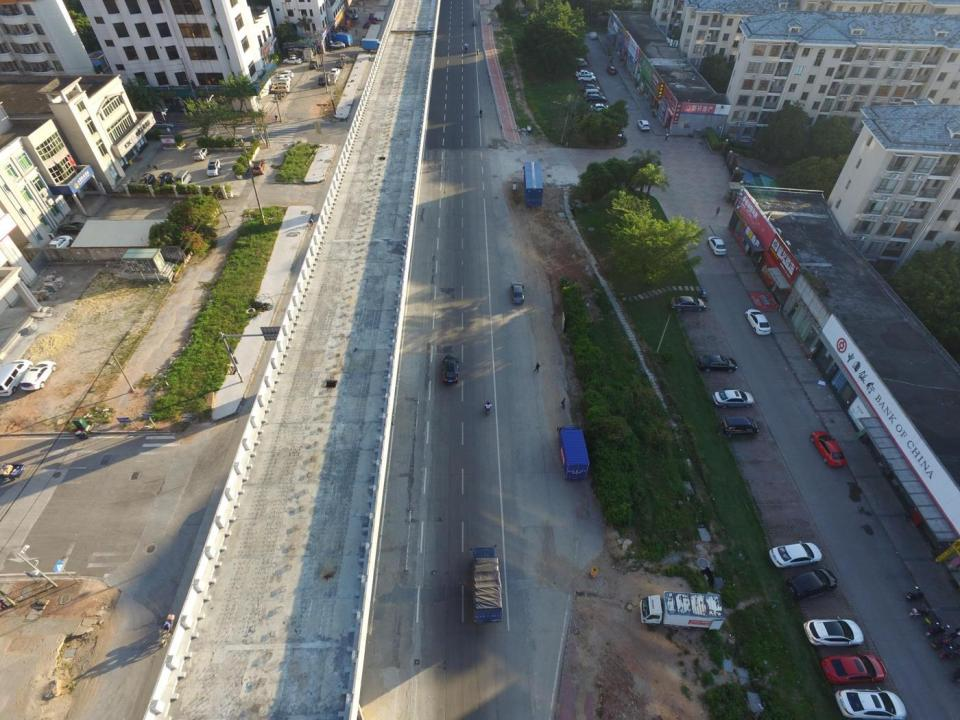car: (834, 686, 908, 720), (822, 650, 886, 685), (804, 614, 864, 648), (785, 566, 838, 602), (768, 540, 823, 568), (809, 430, 848, 468), (0, 359, 34, 397), (19, 360, 56, 390), (719, 413, 759, 438), (711, 387, 754, 410), (697, 352, 738, 374), (744, 308, 771, 336), (670, 295, 706, 313), (46, 234, 73, 258), (441, 354, 460, 385), (171, 169, 193, 193), (56, 221, 88, 236), (707, 235, 728, 257), (153, 171, 174, 193), (509, 280, 526, 304), (137, 173, 156, 194), (206, 158, 222, 177), (252, 160, 267, 176), (586, 92, 607, 103), (192, 147, 209, 160), (271, 78, 290, 89), (270, 84, 290, 94), (272, 80, 288, 92), (572, 57, 589, 68), (590, 103, 610, 112), (273, 70, 293, 79), (584, 88, 603, 97), (577, 73, 596, 82), (282, 56, 301, 65), (636, 118, 650, 130), (272, 75, 290, 84), (580, 84, 600, 92), (575, 69, 594, 77), (330, 40, 345, 50), (308, 60, 318, 71), (606, 66, 618, 75), (588, 30, 597, 41), (331, 66, 340, 77), (318, 75, 326, 86)
truck: (636, 590, 724, 634), (468, 540, 505, 626), (555, 424, 591, 480), (521, 160, 545, 210), (361, 37, 384, 51), (332, 31, 353, 46)
